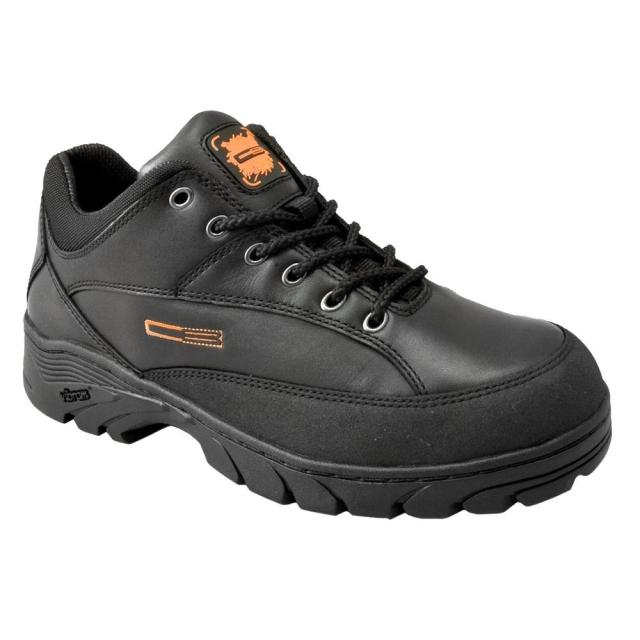boot: (10, 100, 624, 522)
